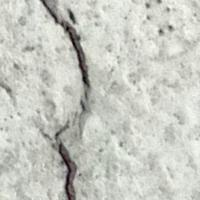crack: (24, 0, 107, 199)
